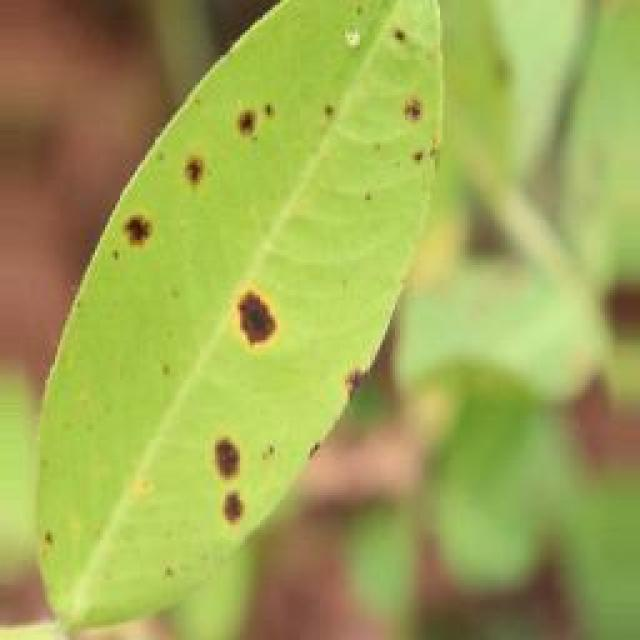Yellowish: (77, 28, 464, 550)
